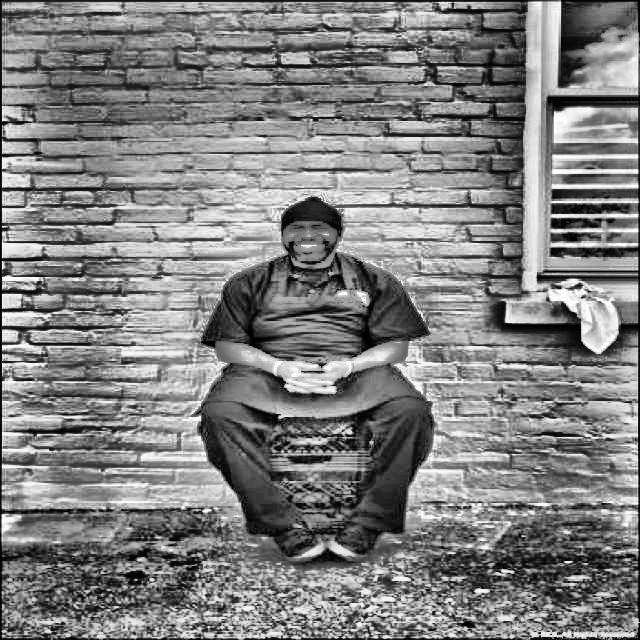happy: (259, 193, 367, 273)
